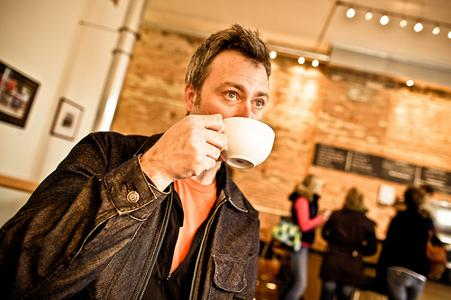person: (2, 23, 278, 299)
